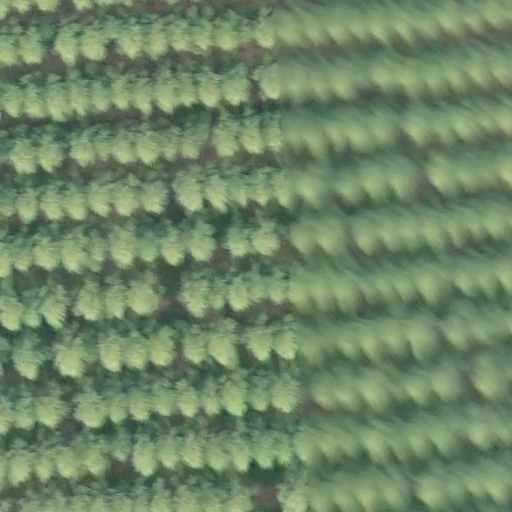eucalipto: (171, 162, 210, 215), (177, 318, 213, 368), (62, 176, 90, 224)
